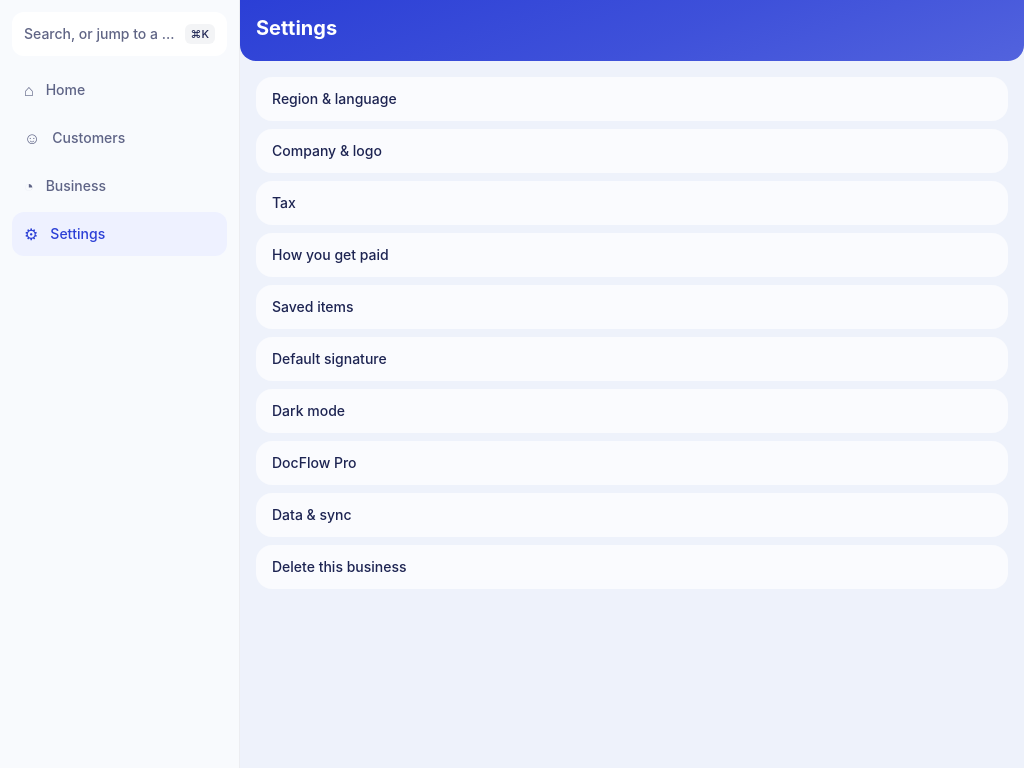
Test: Every page is reachable (§G) › opens the settings index and each panel
The image size is (1024, 768).
Click the link "Tax" at (284, 202), box x1=256 y1=181 x2=1008 y2=225
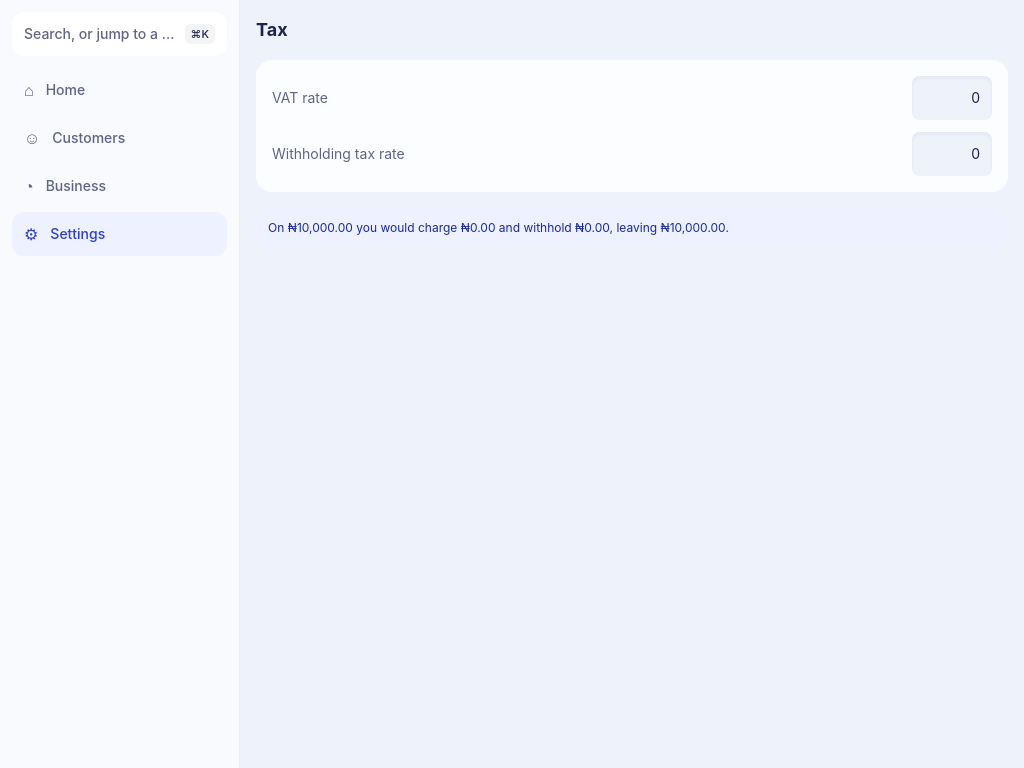
Result: the text "VAT rate" is shown at x1=272 y1=88 x2=328 y2=108
